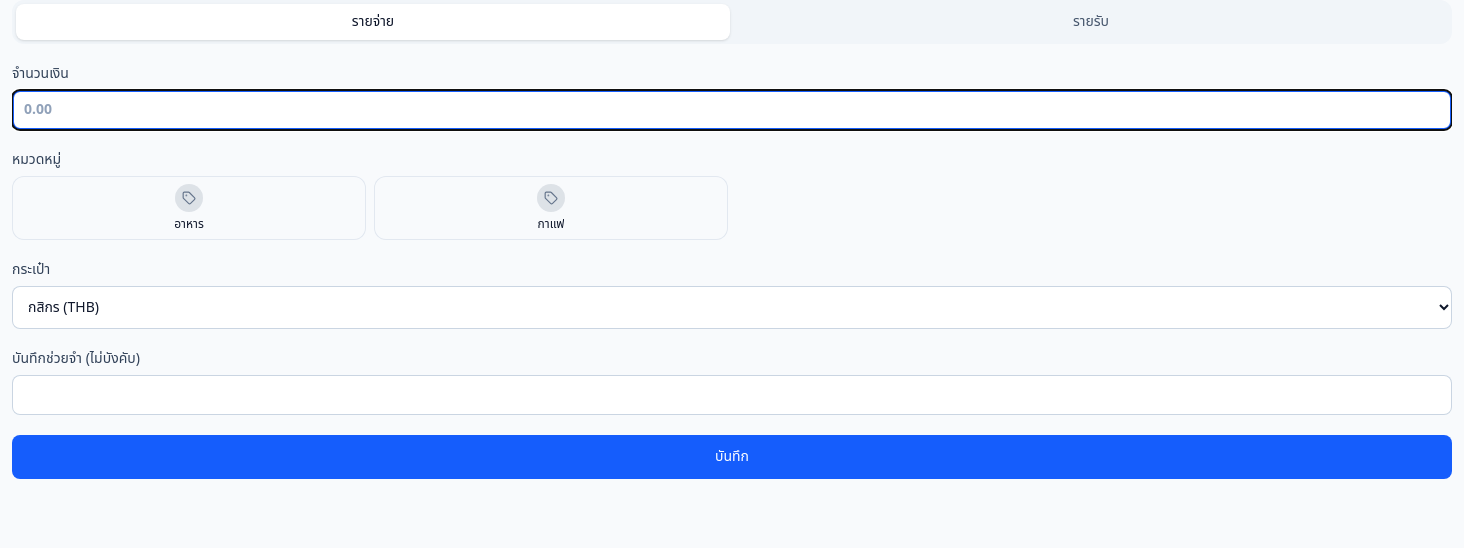
Test: <QuickAddForm> › shows the shared-schema validation messages and does not submit
Type "12.345" into the field labelled "จำนวนเงิน" at (732, 110), box [12,90,1452,130]
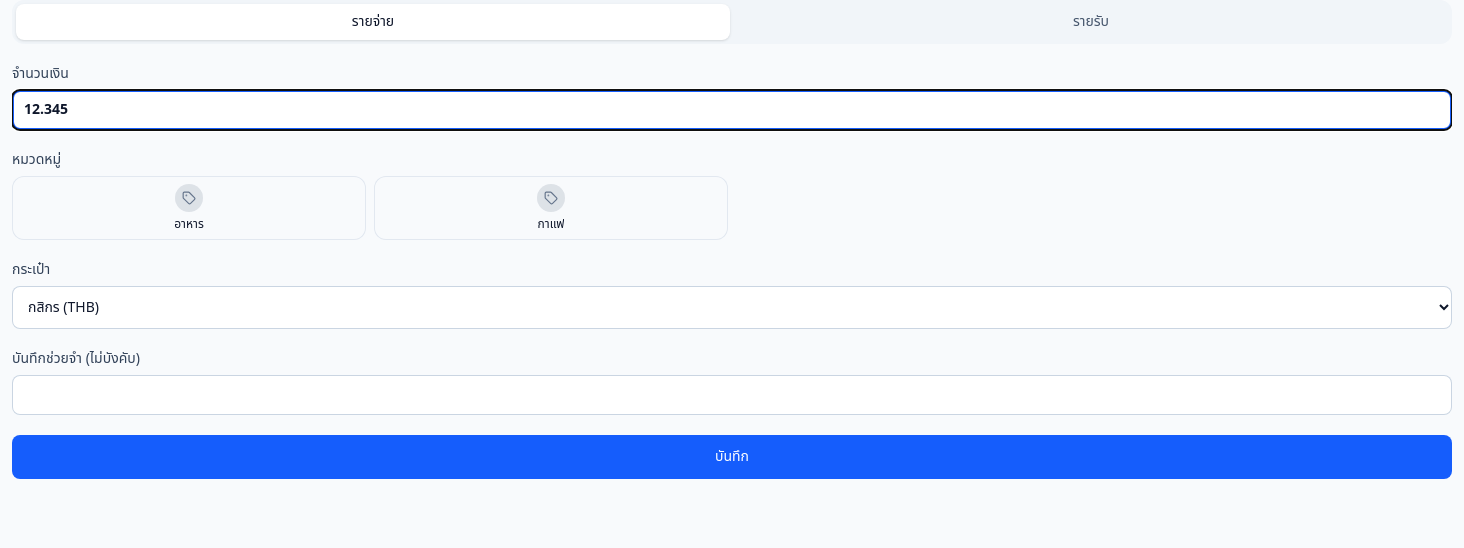
Click the button "บันทึก" at (732, 457), box [12,435,1452,479]
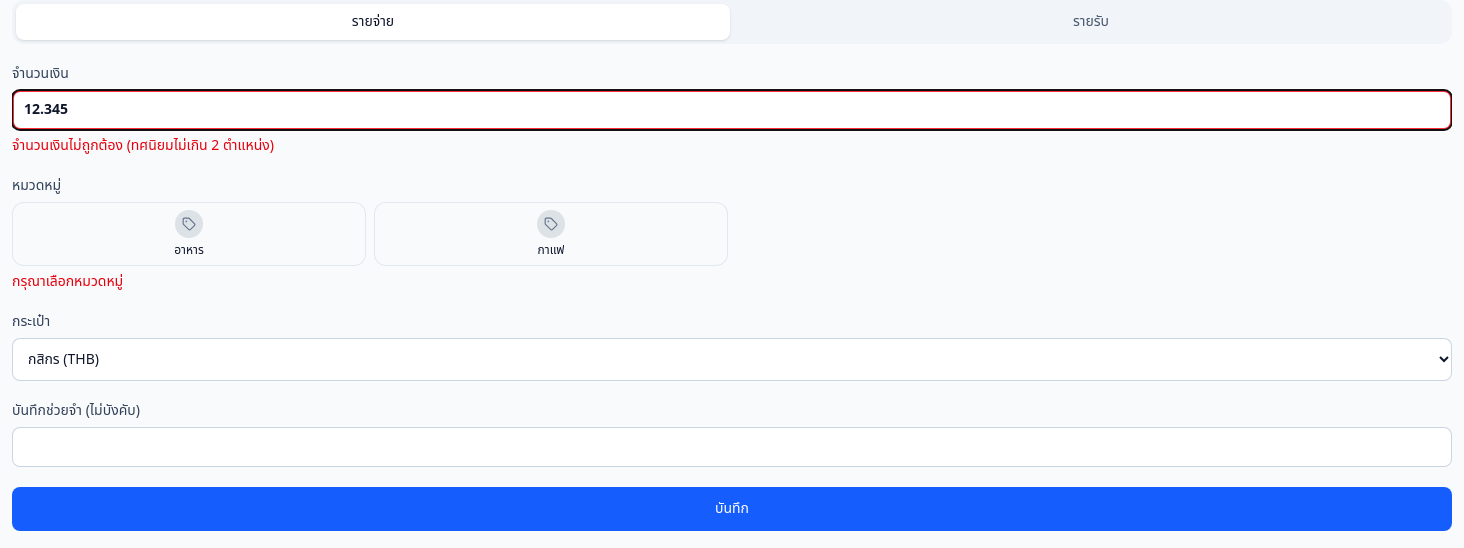
Expected: the text "จำนวนเงินไม่ถูกต้อง (ทศนิยมไม่เกิน 2 ตำแหน่ง)" is shown, [12,135,274,156]
Expected: the text "กรุณาเลือกหมวดหมู่" is shown, [12,271,123,292]
